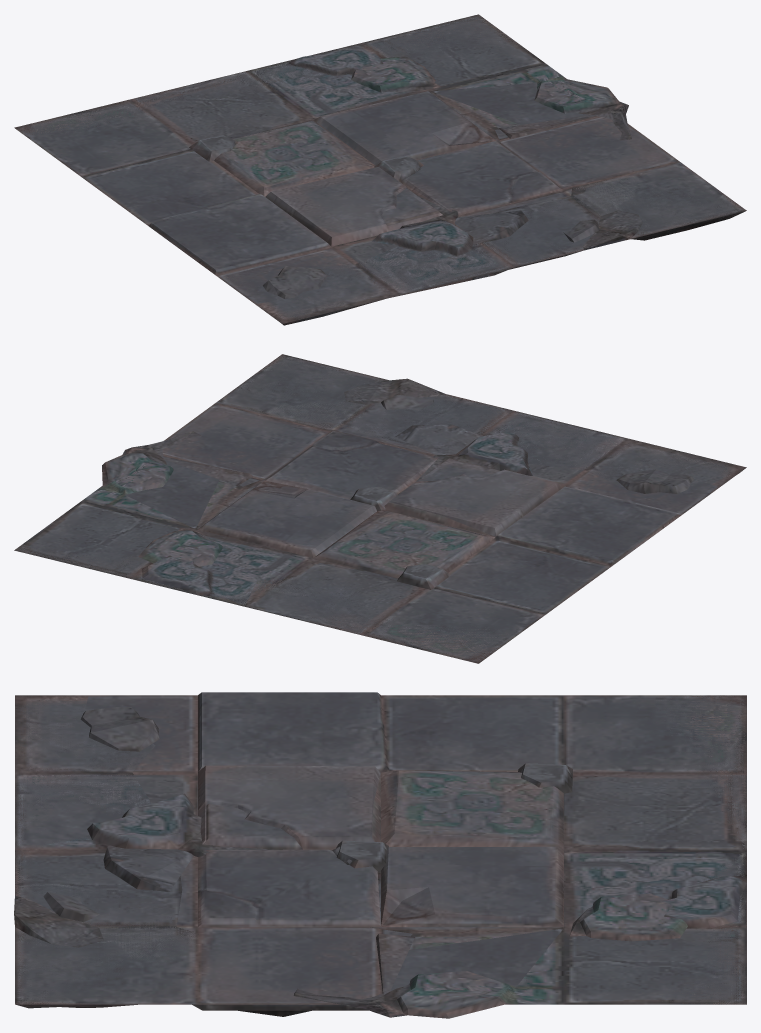
File: di_mian_001.FBX
3 views of the same model, one above another, from view 1: azimuth 30°, elevation 25°; view 2: azimuth 150°, elevation 25°; view 3: azimuth 270°, elevation 25° (orthographic). The views are drawn at different scales.
Visible parts, largest first — view 1: di_mian_001_b12, di_mian_001_a09, di_mian_001_b10, di_mian_001_a04, di_mian_001_a07, di_mian_001_a08, di_mian_001_a01, di_mian_001_a06; view 2: di_mian_001_b12, di_mian_001_a09, di_mian_001_b10, di_mian_001_a04, di_mian_001_a07, di_mian_001_a08, di_mian_001_a01, di_mian_001_a06; view 3: di_mian_001_b12, di_mian_001_a09, di_mian_001_b10, di_mian_001_a04, di_mian_001_a07, di_mian_001_a01, di_mian_001_a08, di_mian_001_a06.
Boxes of the visible parts, box(x1,y1,x2,y2) form: di_mian_001_b12: box(15, 15, 745, 325); di_mian_001_a09: box(14, 14, 746, 323); di_mian_001_b10: box(16, 15, 745, 323); di_mian_001_a04: box(313, 91, 496, 225); di_mian_001_a07: box(214, 120, 375, 196); di_mian_001_a08: box(265, 167, 442, 246); di_mian_001_a01: box(401, 141, 562, 215); di_mian_001_a06: box(399, 165, 559, 200); di_mian_001_b12: box(15, 378, 740, 662); di_mian_001_a09: box(15, 354, 746, 663); di_mian_001_b10: box(14, 354, 745, 663); di_mian_001_a04: box(197, 458, 499, 557); di_mian_001_a07: box(314, 509, 495, 578); di_mian_001_a08: box(385, 469, 562, 536); di_mian_001_a01: box(265, 431, 438, 499); di_mian_001_a06: box(311, 431, 380, 449); di_mian_001_b12: box(14, 692, 746, 1018); di_mian_001_a09: box(15, 695, 746, 1004); di_mian_001_b10: box(15, 695, 746, 1010); di_mian_001_a04: box(203, 773, 563, 927); di_mian_001_a07: box(381, 770, 563, 849); di_mian_001_a01: box(198, 849, 380, 927); di_mian_001_a08: box(198, 765, 380, 849); di_mian_001_a06: box(201, 846, 351, 924).
Bounding box in the file's own units: 628 × 26.12 × 601.
